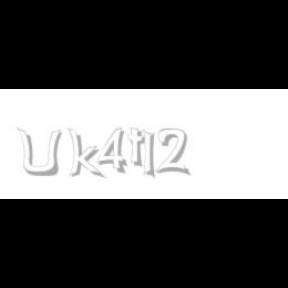2: (155, 128, 189, 176)
4: (96, 128, 128, 174)
I: (144, 128, 156, 180)
U: (16, 128, 62, 178)
k: (67, 128, 105, 180)
t: (127, 128, 149, 168)
